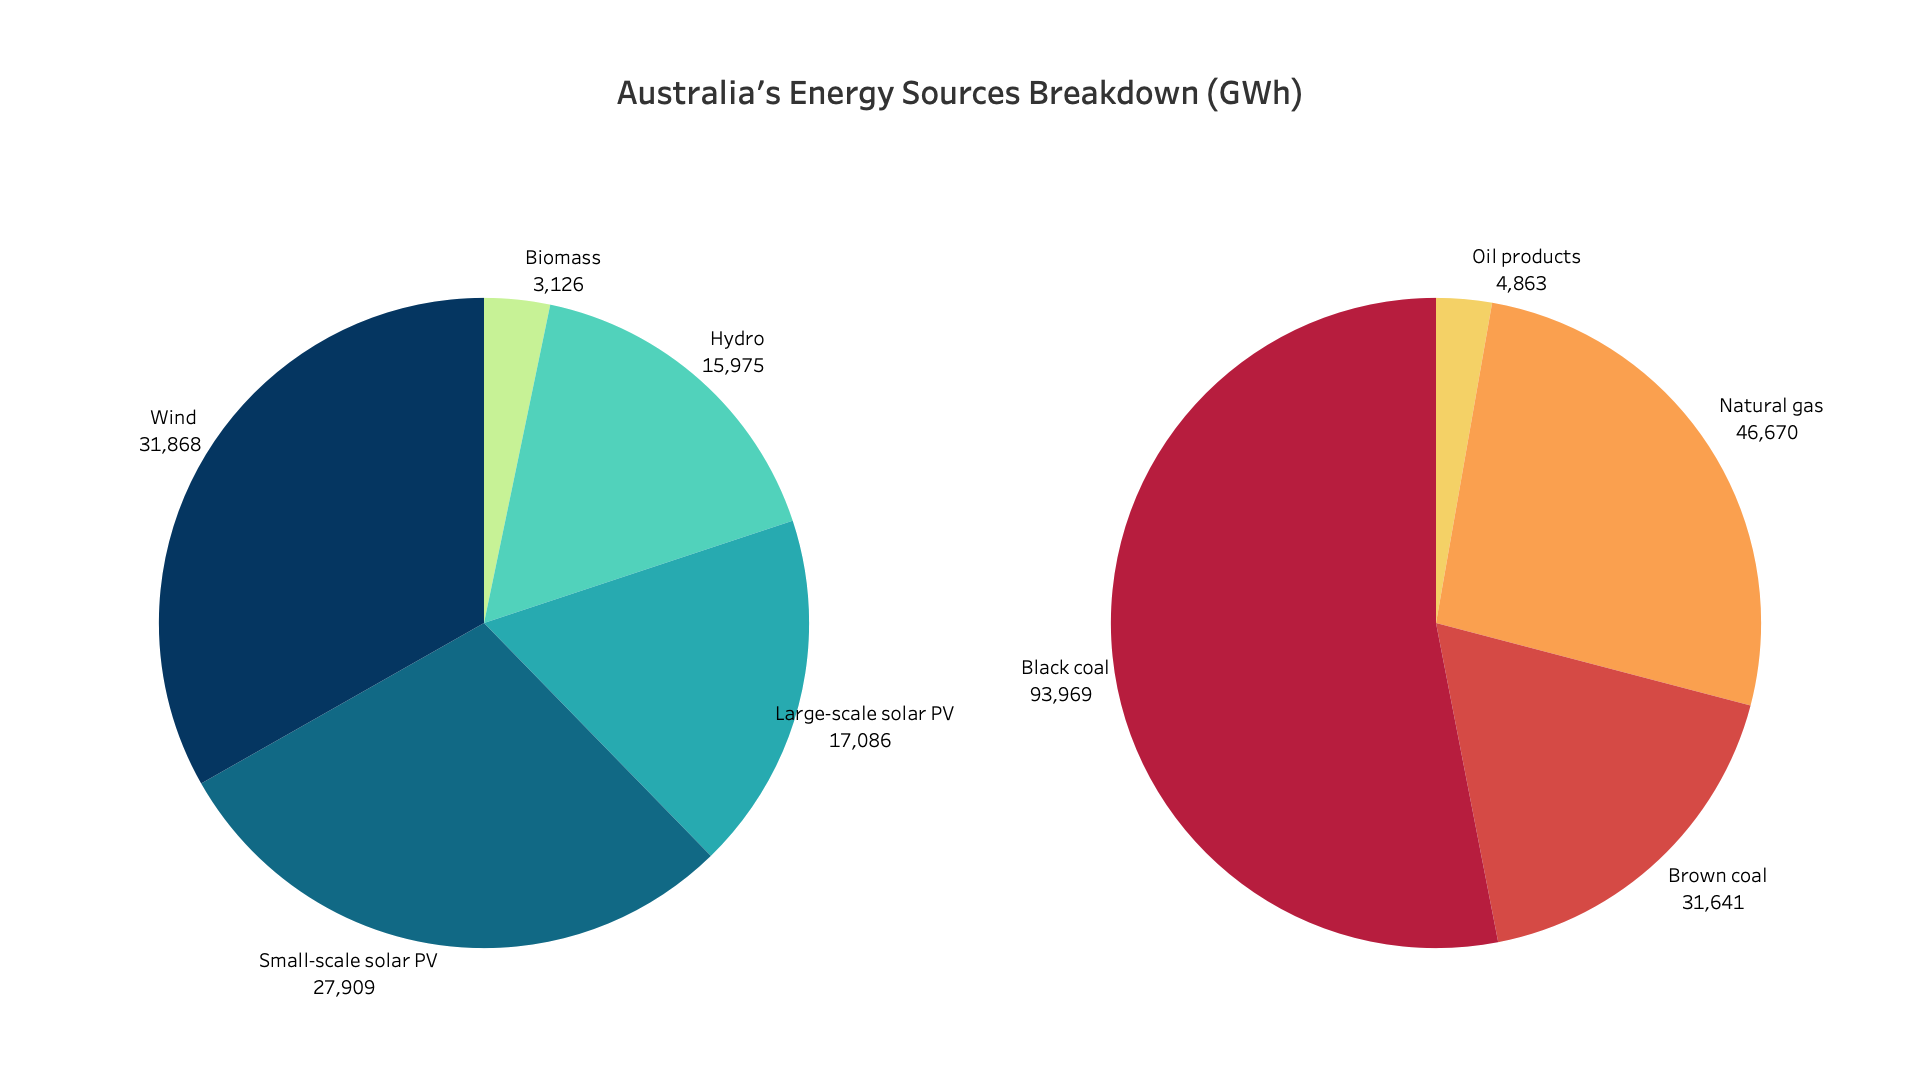

The dashboard page shown, as its layout file describes it:
{"tool":"tableau","page":{"name":"Dashboard 1","canvas":[1920,1080],"ordinal":0},"visuals":[{"type":"title","box":[8,8,1904,52]},{"type":"worksheet","title":"sustainable","mark":"Pie","box":[8,60,952,1012]},{"type":"worksheet","title":"fosilfuel","mark":"Pie","box":[960,60,952,1012]}]}

Visuals, with their boxes in screenshot pixels (x1, y1, x2, y2), scaled from the page's 1920x1080 canvas onto the 1920x1080 screenshot:
title: <region>8, 8, 1912, 60</region>
"sustainable" worksheet (Pie marks): <region>8, 60, 960, 1072</region>
"fosilfuel" worksheet (Pie marks): <region>960, 60, 1912, 1072</region>
